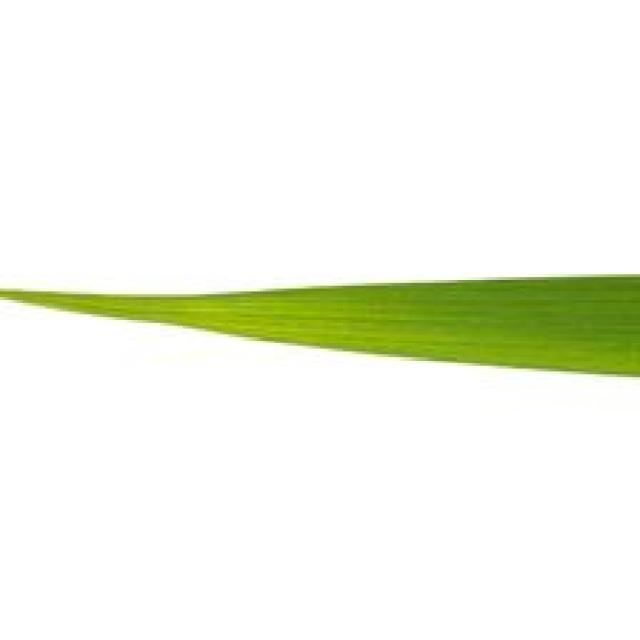Rice___Healthy_Rice_Plant: (0, 274, 637, 376)
